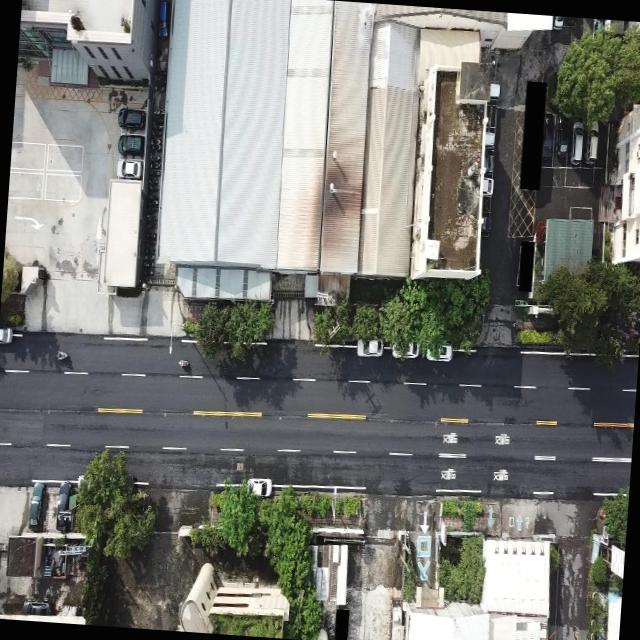bike: (176, 354, 193, 372), (55, 348, 70, 363)
car: (24, 478, 46, 530), (583, 116, 603, 170), (554, 112, 572, 162), (242, 472, 275, 499), (568, 120, 586, 167), (540, 110, 556, 162), (354, 334, 384, 360), (54, 482, 70, 530), (115, 156, 144, 182), (115, 105, 145, 127), (116, 133, 144, 156)
